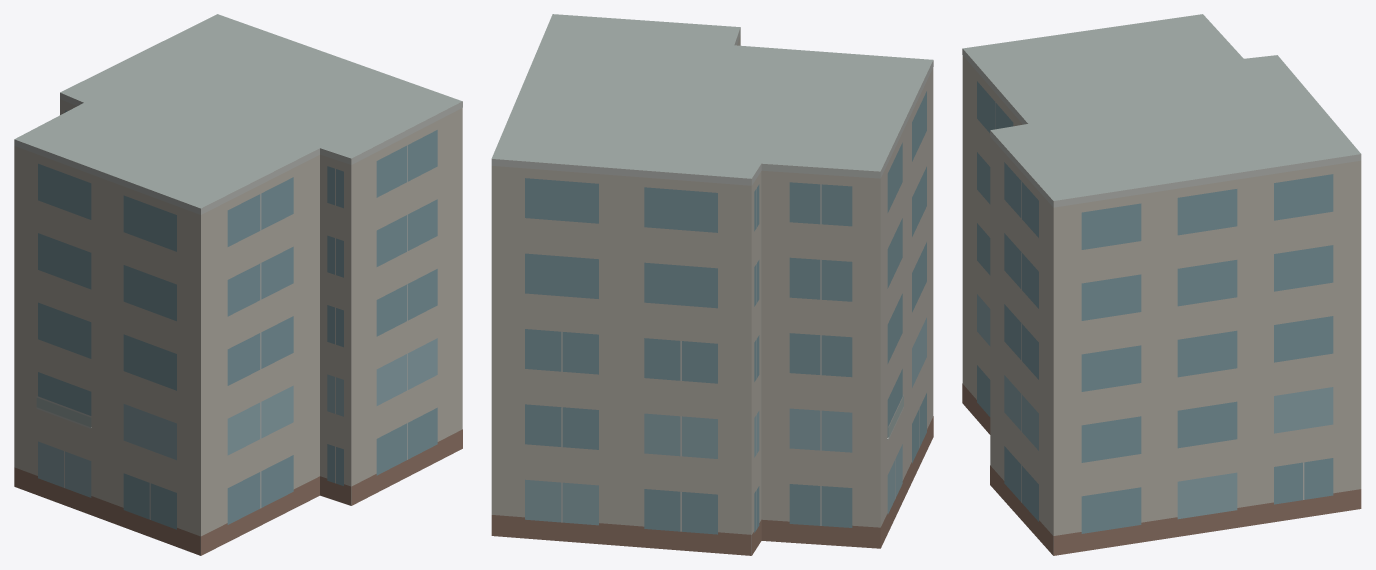
Rendered from survey-upis-32963420.glb.
3 renders of one model, left to right at view 1: azimuth 30°, elevation 25°; view 2: azimuth 150°, elevation 25°; view 3: azimuth 270°, elevation 25°, orthographic. The views are drawn at different scales.
Visible parts, largest first — view 1: survey-upis-32963420.tmp; view 2: survey-upis-32963420.tmp; view 3: survey-upis-32963420.tmp.
Boxes of the visible parts, x1,y1,x2,y2 form: survey-upis-32963420.tmp: (14,14,462,555); survey-upis-32963420.tmp: (491,14,933,555); survey-upis-32963420.tmp: (962,14,1361,555).
Bounding box in the file's own units: 14.88 × 13.15 × 13.41.
